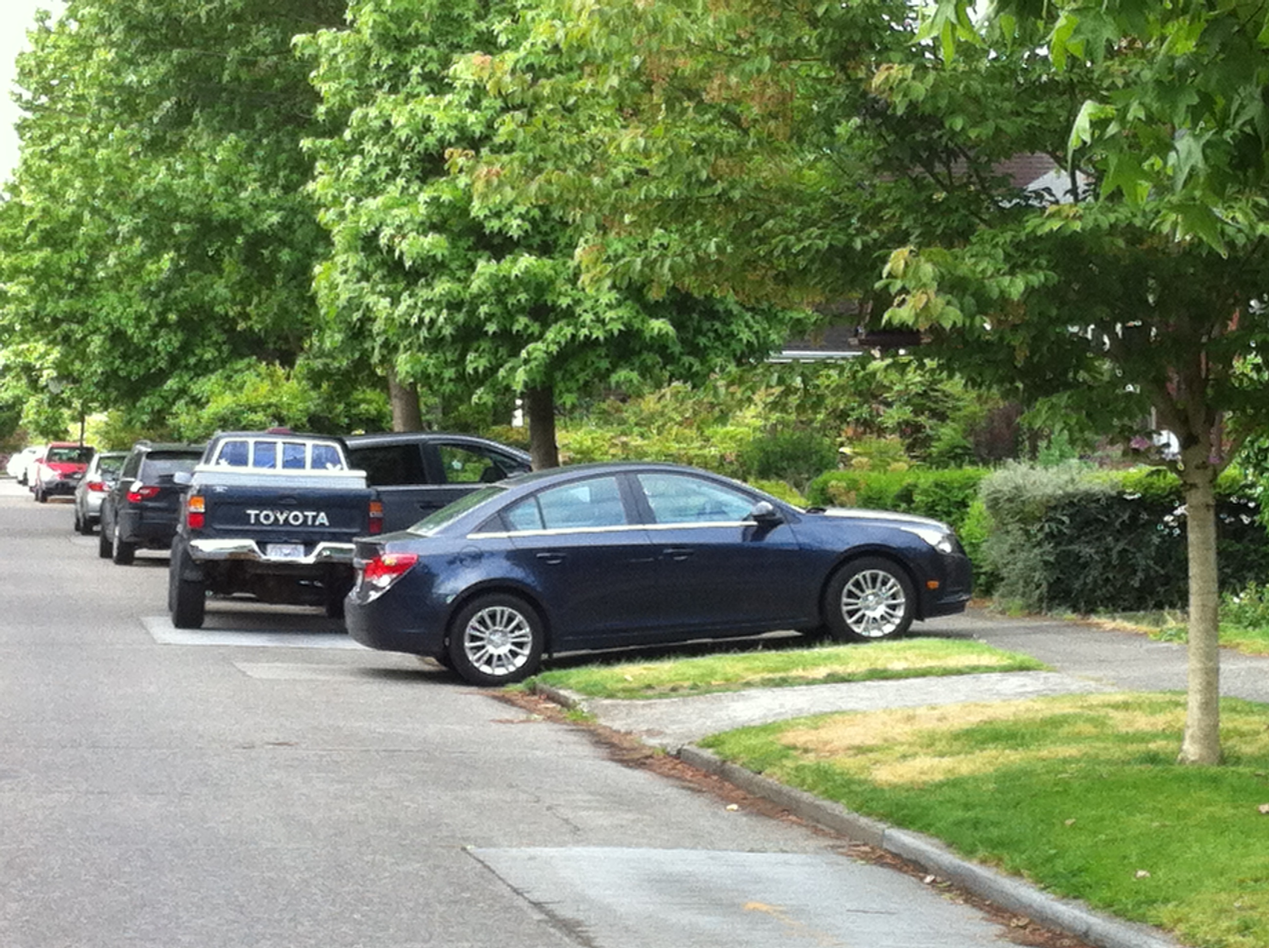Car: (349, 451, 977, 692), (170, 415, 393, 639), (96, 437, 202, 579), (23, 437, 106, 504)
Tree: (1001, 26, 1269, 761), (317, 10, 779, 430)
